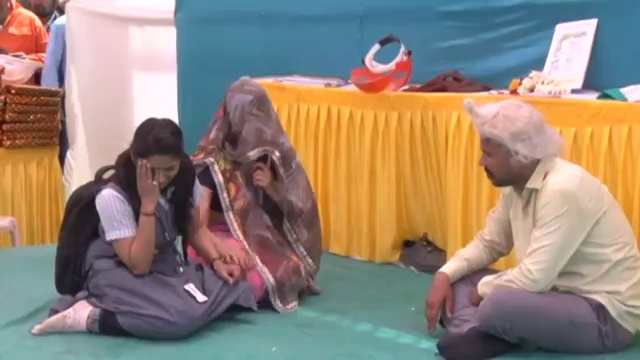helmet: (1, 53, 44, 89)
helmet_off: (469, 98, 551, 191), (126, 115, 188, 192), (228, 84, 268, 125), (28, 0, 58, 25)
person: (409, 93, 640, 352), (29, 121, 227, 339), (191, 74, 317, 315), (0, 0, 49, 78), (44, 0, 70, 90)
